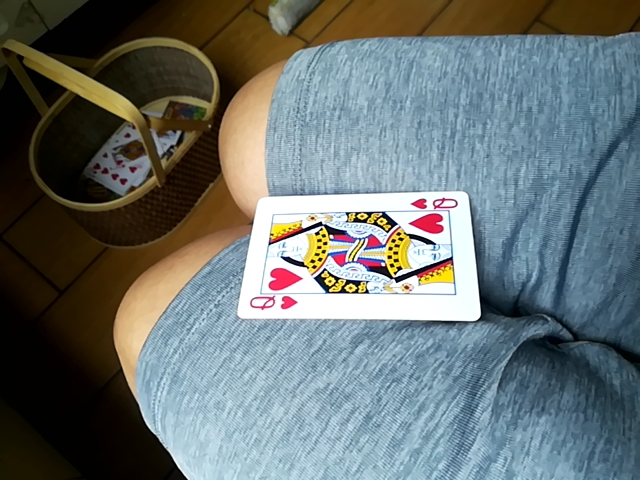hx q: (237, 190, 482, 322)
